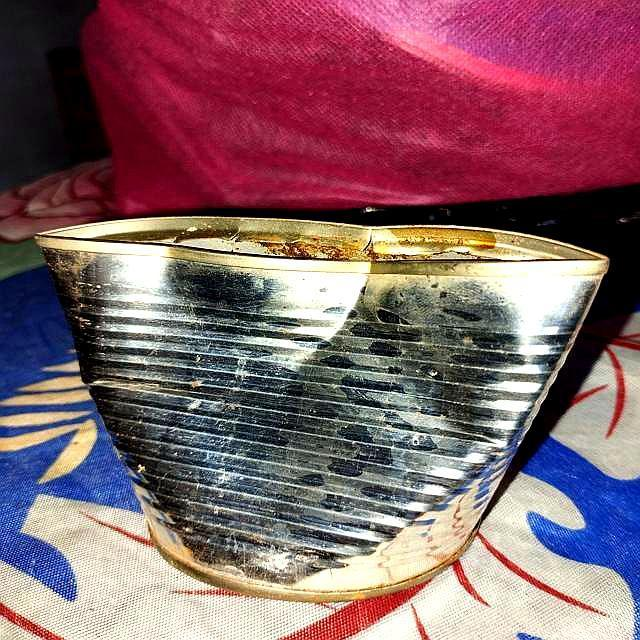Non-biodegradable: (33, 212, 611, 604)
